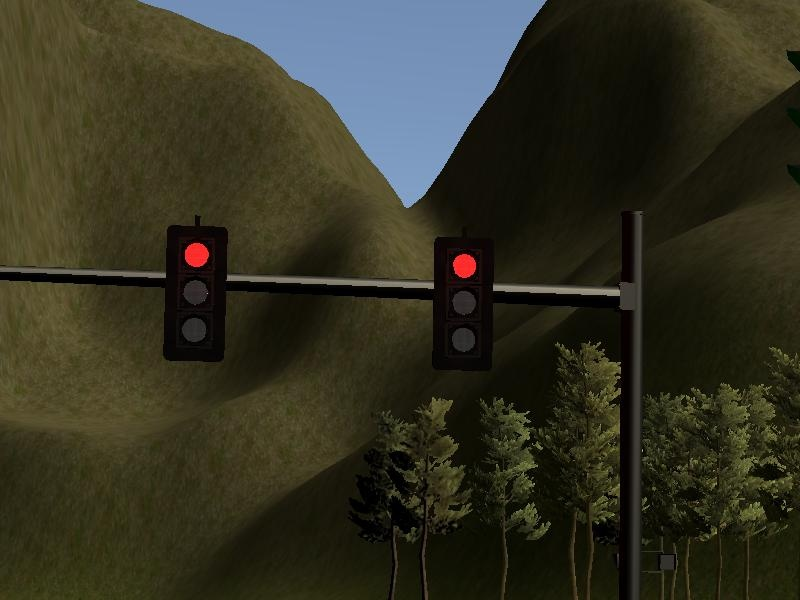red: (161, 216, 229, 366), (431, 232, 494, 374)
